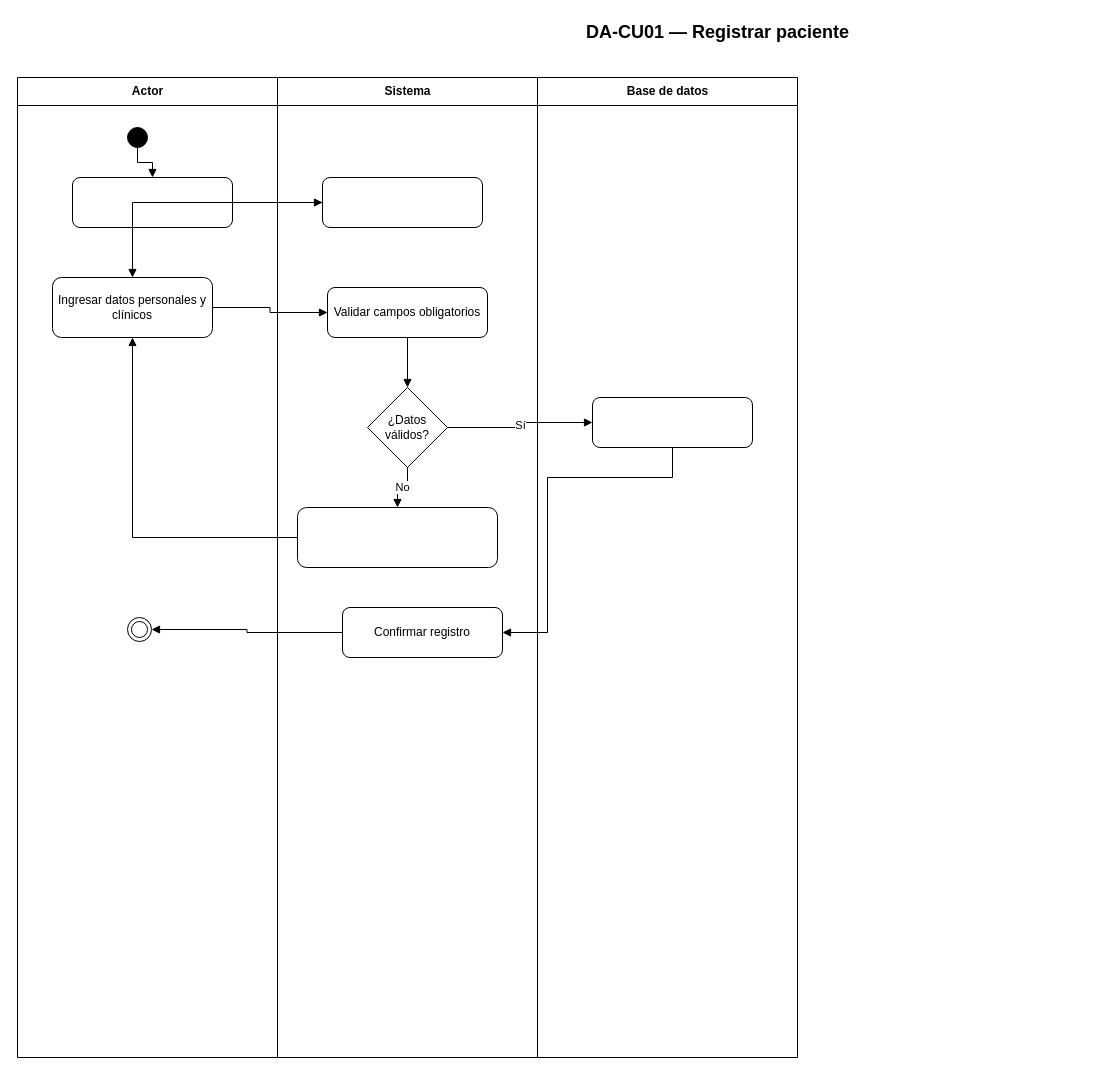
The diagram is 1115 pixels wide and 1075 high, and some of its shapes have lost their labels. The shapes that lost their labels are listed below. From the top down, each one's centre as x and y in pixels, then its label:
At pixel 152 202: "Solicitar nuevo registro".
At pixel 402 202: "Mostrar formulario de paciente".
At pixel 672 422: "Guardar paciente".
At pixel 397 537: "Mostrar errores y solicitar corrección".
